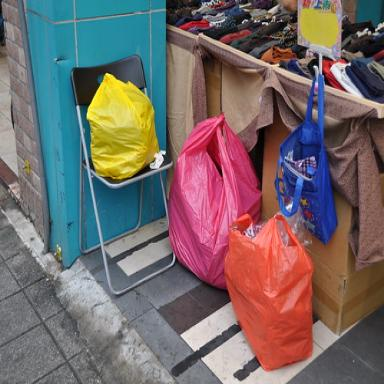plasticbag: (168, 112, 262, 294), (224, 211, 315, 370), (88, 70, 162, 182)
